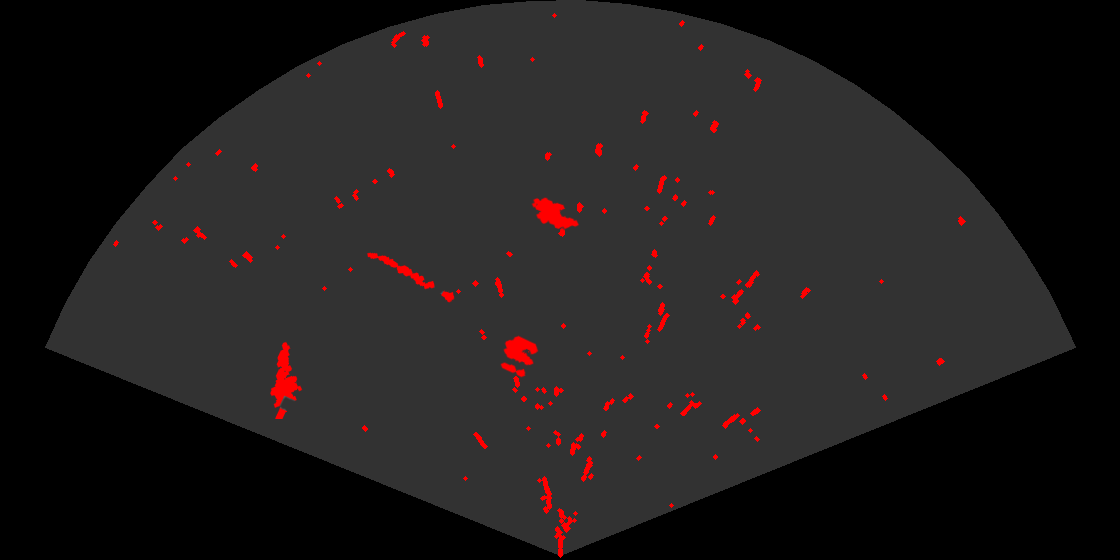AUV: (530, 196, 581, 231)
ball: (499, 334, 540, 379)
chain: (366, 251, 456, 304)
frogman: (269, 340, 304, 419)
